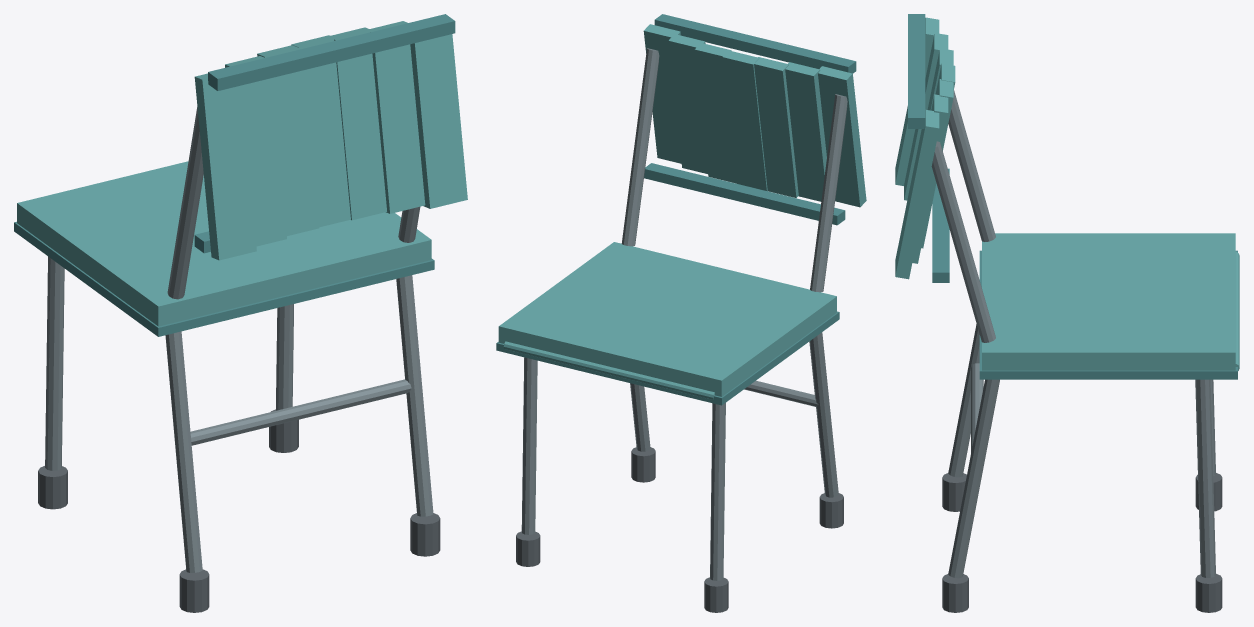
File: lfc_student_chair.glb
The picture shows the model from 3 angles, left to right: view 1: azimuth 30°, elevation 25°; view 2: azimuth 150°, elevation 25°; view 3: azimuth 270°, elevation 25°; orthographic projection. The views are drawn at different scales.
Parts seen in each view (by area): view 1: seat_shell_001, curved_back_shell_015, curved_back_shell_021, curved_back_shell_020, curved_back_shell_019, curved_back_shell_017, curved_back_shell_018, upper_back_shell_rim_023, curved_back_shell_016, seat_edge_002, rear_leg_005, rear_leg_010 (+8 smaller); view 2: seat_shell_001, curved_back_shell_018, curved_back_shell_017, curved_back_shell_016, curved_back_shell_019, curved_back_shell_015, curved_back_shell_020, upper_back_shell_rim_023, lower_back_shell_rim_022, curved_back_shell_021, back_support_008, back_support_013 (+11 smaller); view 3: seat_shell_001, front_leg_009, rear_leg_010, back_support_013, curved_back_shell_021, seat_edge_002, back_support_008, upper_back_shell_rim_023, rear_leg_005, lower_back_shell_rim_022, curved_back_shell_015, curved_back_shell_016 (+9 smaller).
Boxes of the visible parts, x1,y1,x2,y2 form: seat_shell_001: (17, 161, 431, 326); curved_back_shell_015: (194, 73, 256, 260); curved_back_shell_021: (410, 34, 467, 208); curved_back_shell_020: (370, 21, 425, 213); curved_back_shell_019: (330, 27, 386, 220); curved_back_shell_017: (257, 45, 319, 235); curved_back_shell_018: (291, 35, 350, 227); upper_back_shell_rim_023: (208, 14, 455, 90); curved_back_shell_016: (225, 56, 286, 246); seat_edge_002: (14, 221, 434, 336); rear_leg_005: (165, 331, 202, 572); rear_leg_010: (396, 275, 433, 516); seat_shell_001: (498, 242, 836, 396); curved_back_shell_018: (722, 50, 767, 191); curved_back_shell_017: (754, 57, 798, 197); curved_back_shell_016: (785, 62, 826, 201); curved_back_shell_019: (694, 43, 735, 183); curved_back_shell_015: (818, 66, 866, 207); curved_back_shell_020: (668, 34, 707, 173); upper_back_shell_rim_023: (654, 14, 856, 73); lower_back_shell_rim_022: (644, 163, 845, 225); curved_back_shell_021: (643, 24, 681, 163); back_support_008: (810, 94, 847, 292); back_support_013: (621, 48, 659, 246); seat_shell_001: (982, 233, 1235, 370); front_leg_009: (1195, 379, 1215, 577); rear_leg_010: (948, 379, 999, 578); back_support_013: (931, 141, 995, 342); curved_back_shell_021: (895, 110, 939, 279); seat_edge_002: (979, 250, 1237, 379); back_support_008: (948, 90, 995, 241); upper_back_shell_rim_023: (908, 14, 925, 128); rear_leg_005: (948, 324, 979, 477); lower_back_shell_rim_022: (932, 168, 949, 282); curved_back_shell_015: (895, 17, 939, 185); curved_back_shell_016: (904, 33, 948, 200).
Size of the model in its own units: 0.448 by 0.8485 by 0.5395.
